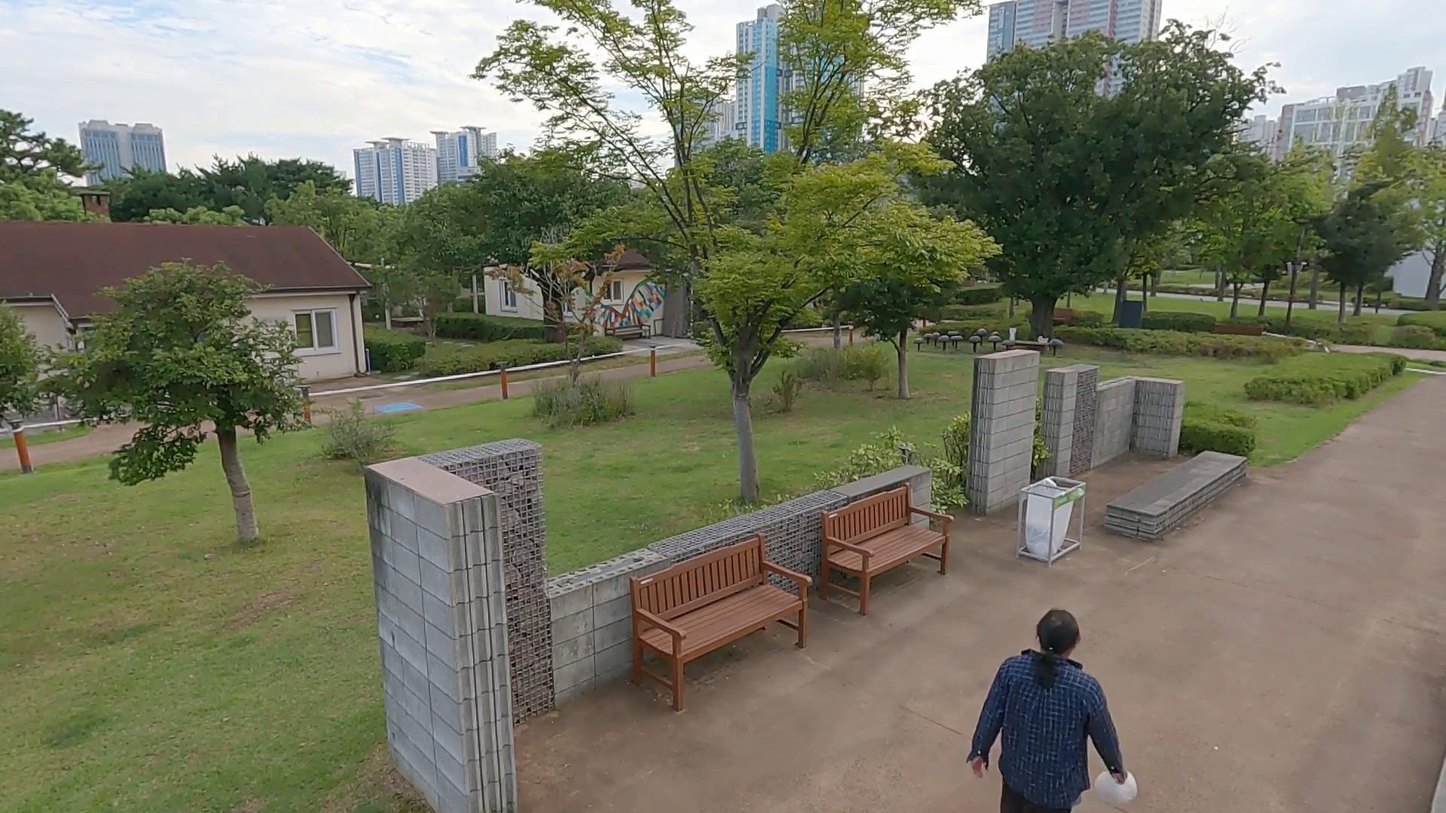person: (967, 605, 1132, 813)
trash: (1093, 766, 1137, 805)
